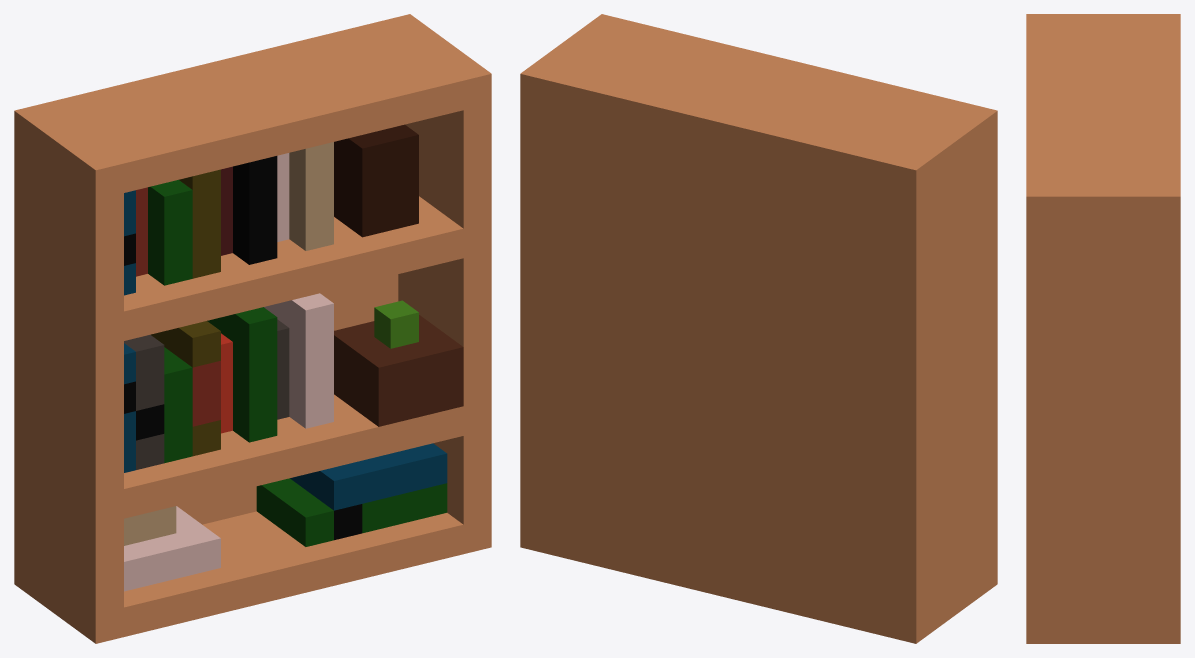
File: Cupboard.obj
3 views of the same model, side by side, from view 1: azimuth 30°, elevation 25°; view 2: azimuth 150°, elevation 25°; view 3: azimuth 270°, elevation 25° (orthographic). The views are drawn at different scales.
Size of the model in its own units: 1.4 by 1.6 by 0.5.
Materials: 1 (1 with a texture image).
